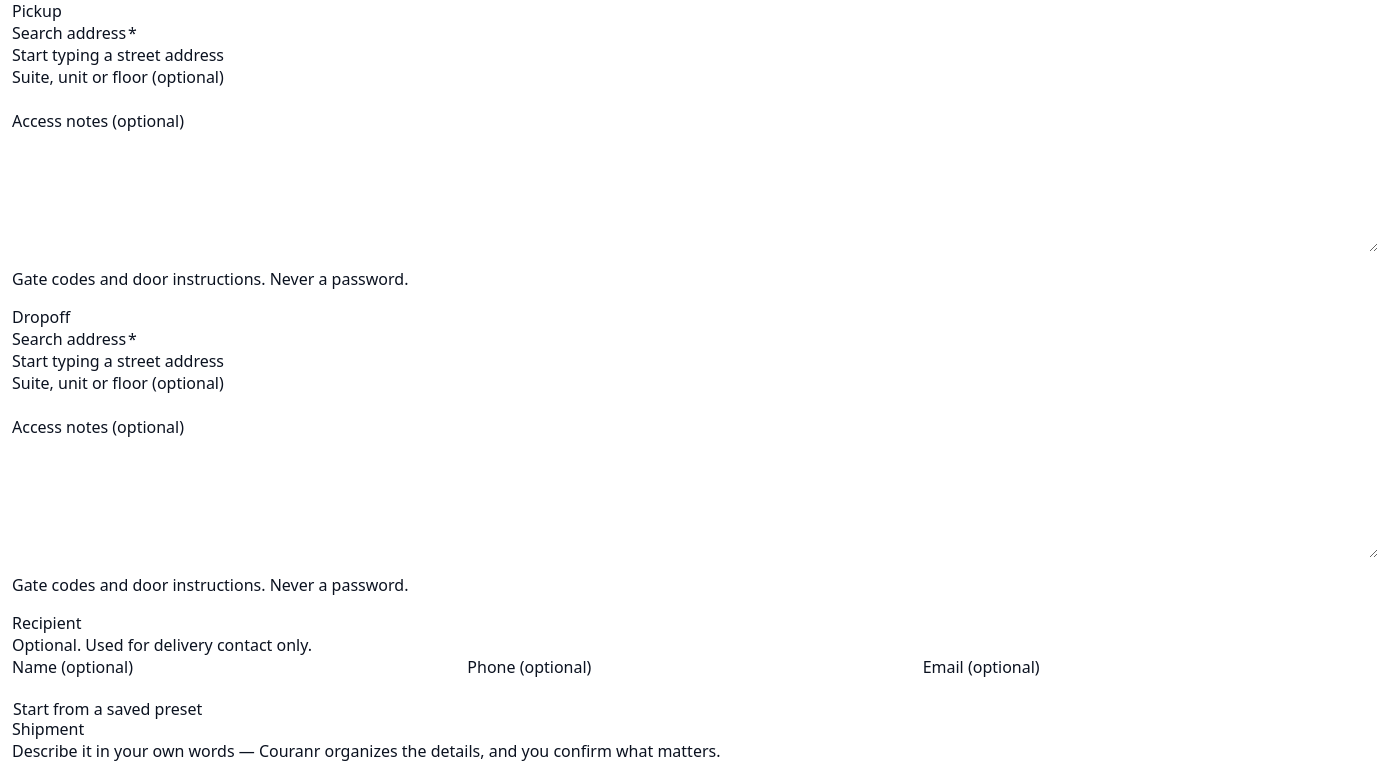
preset application in New Delivery › tells the merchant when a preset has gone, and refreshes the list
This screenshot has width=1390, height=763.
Click the button with test id "preset-start-open" at (108, 709), box [12,700,203,718]
(page scrolled)
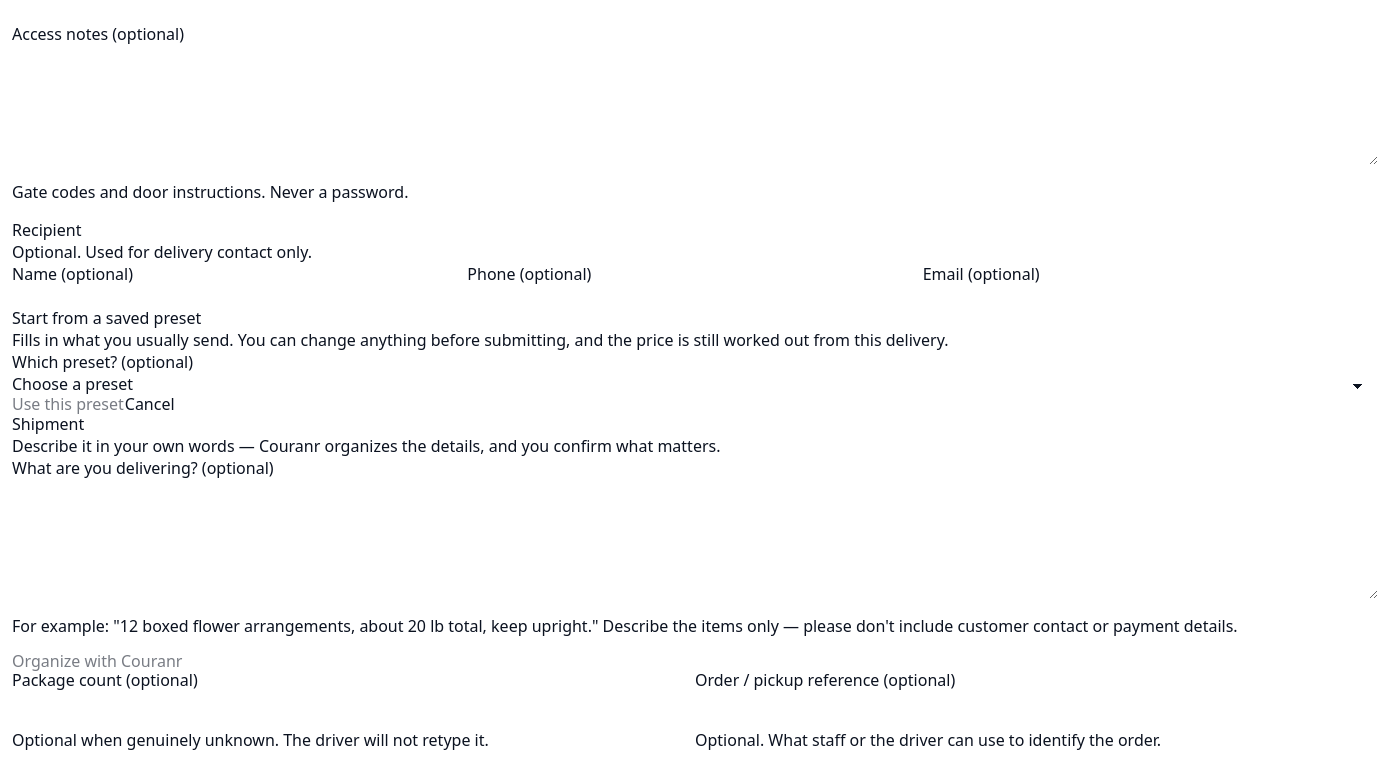
Result: the dropdown with test id "preset-start-select" is shown
Select "Weekly florist run" in the dropdown with test id "preset-start-select" at (695, 384), box [12,373,1378,395]
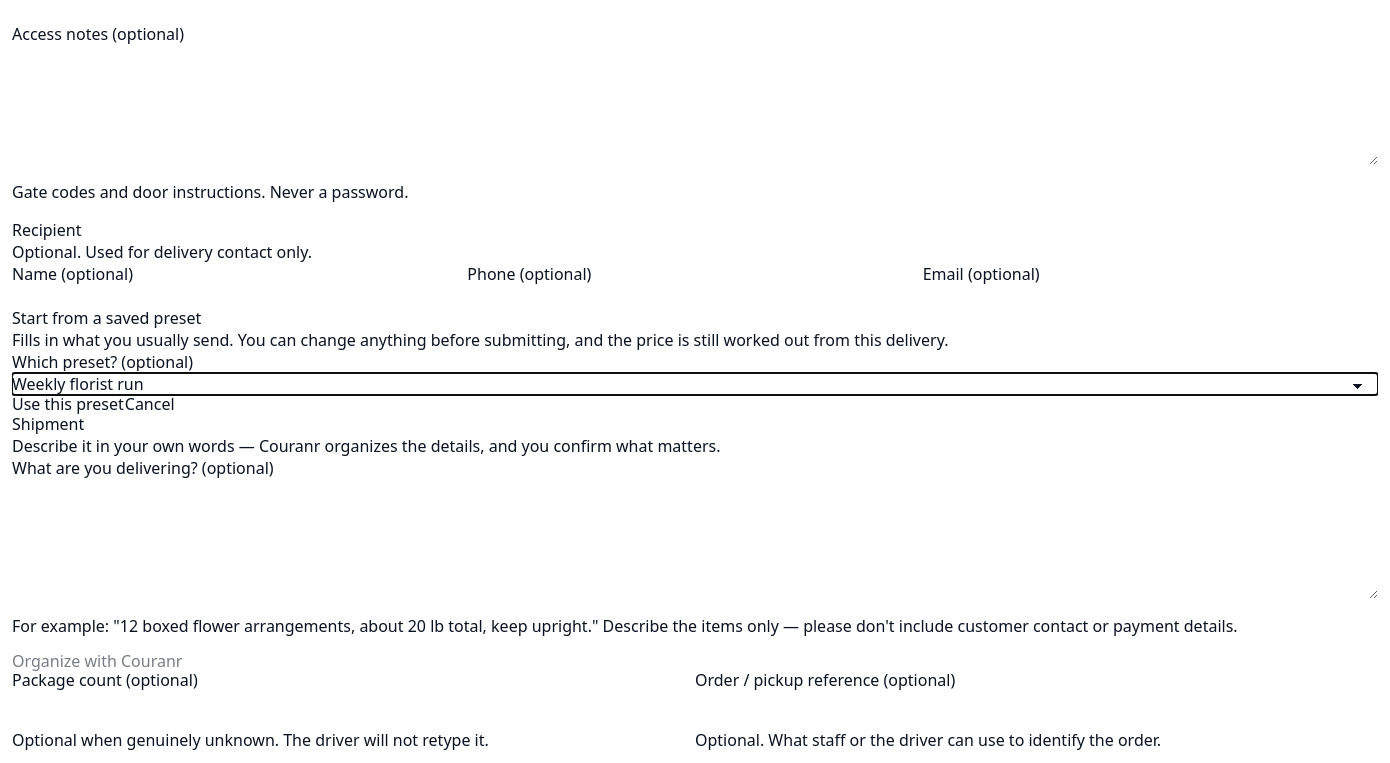
Click the button with test id "preset-start-apply" at (68, 404), box [12,396,124,412]
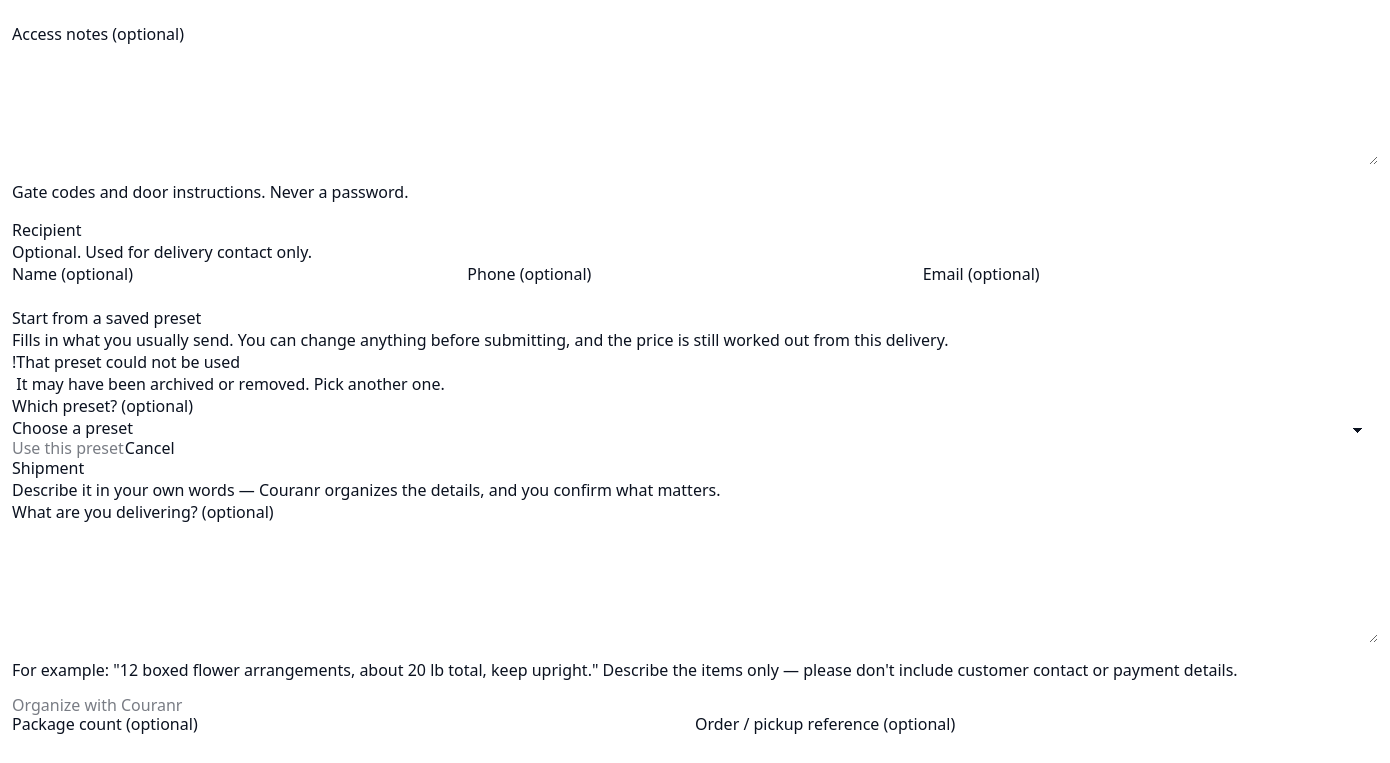
Result: the text "It may have been archived or removed. Pick another one." is shown at [16,373,445,395]
